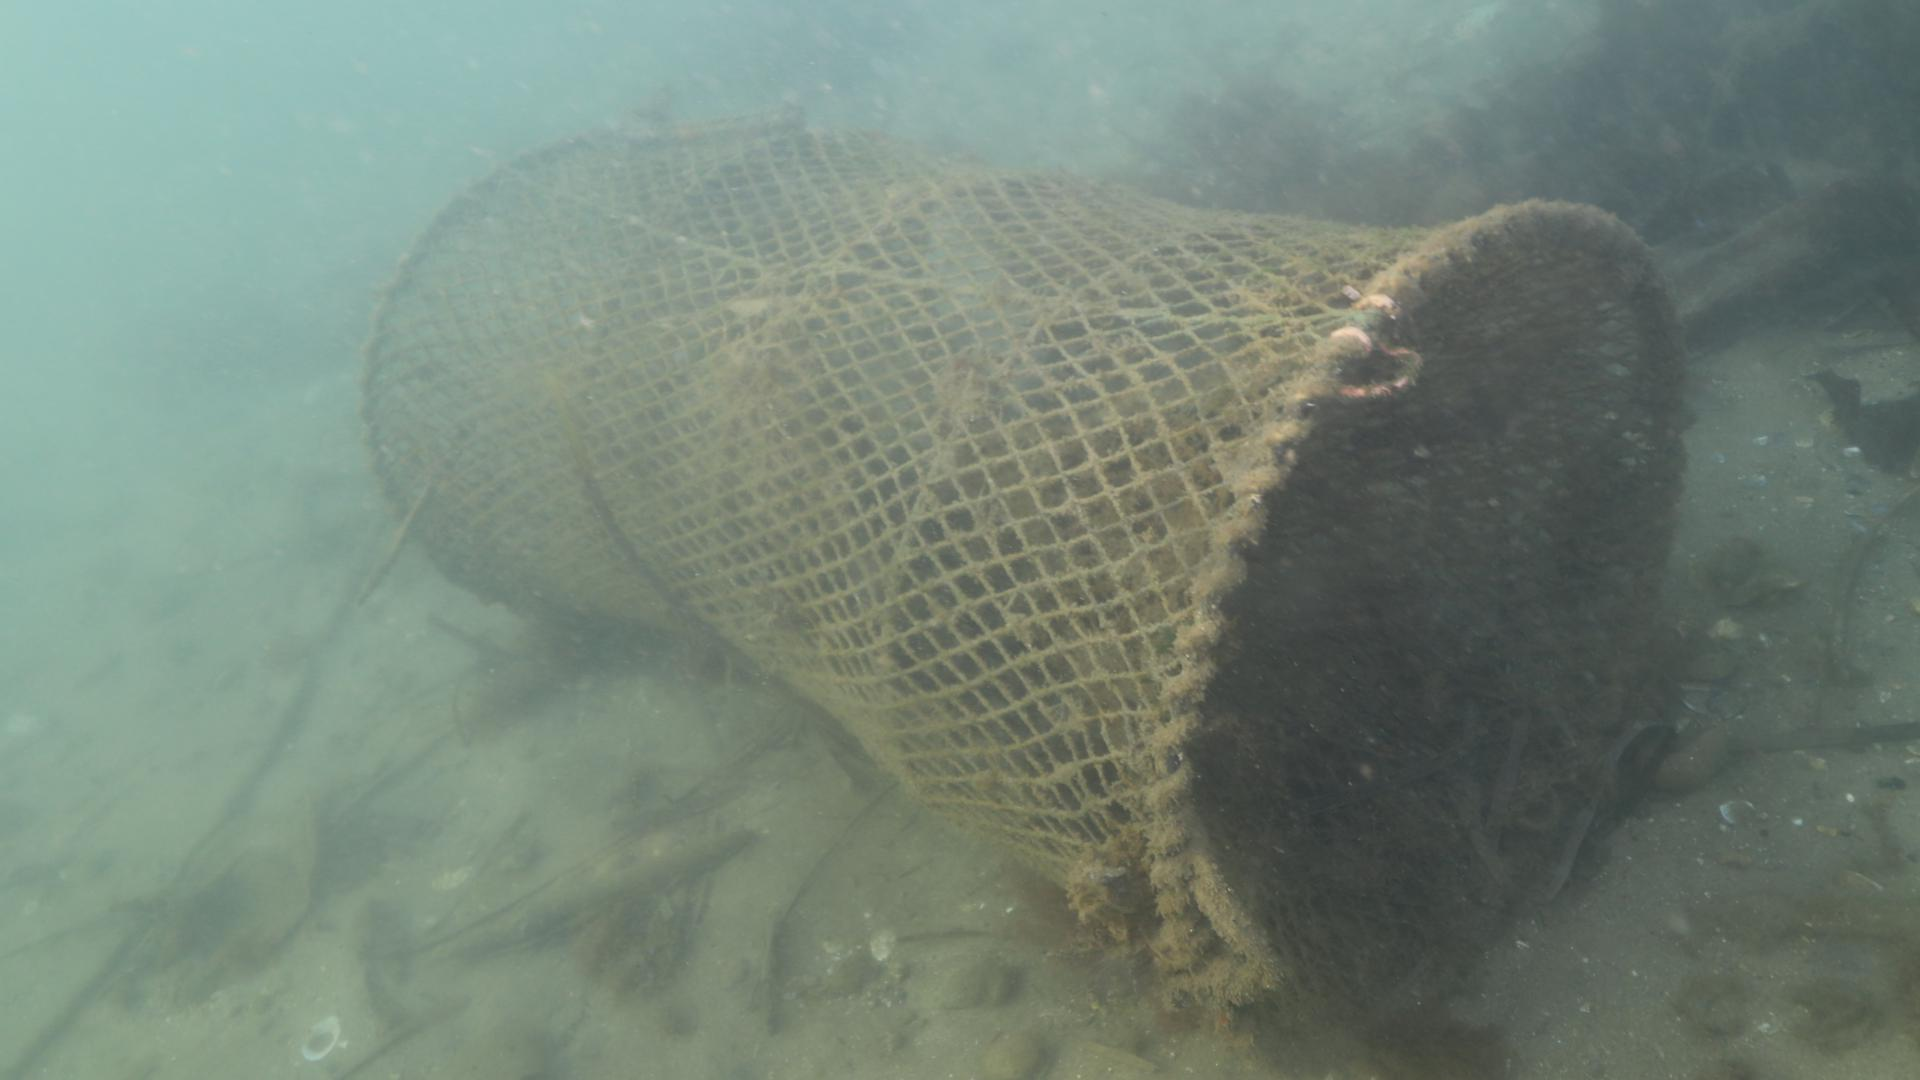spring fish trap: (355, 109, 1687, 1068)
